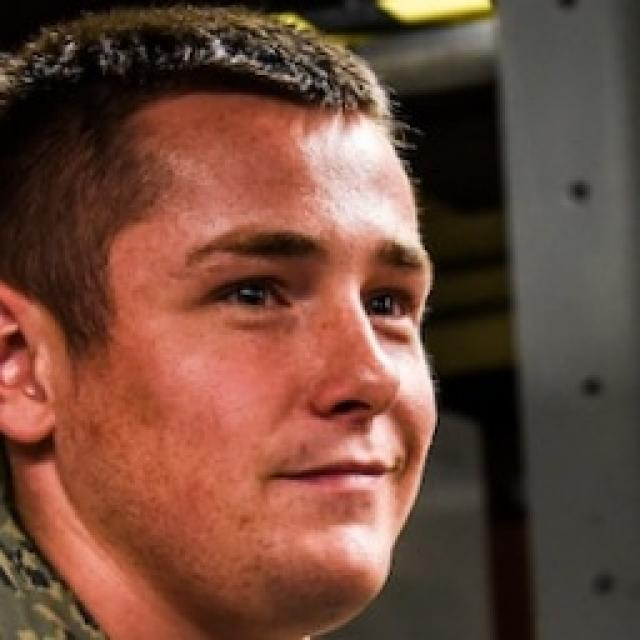no-glasses: (168, 250, 427, 352)
